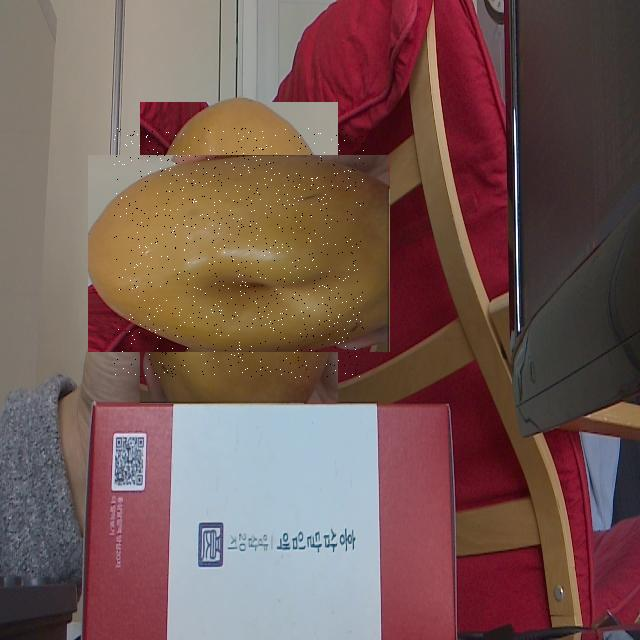pear: (114, 128, 364, 378)
